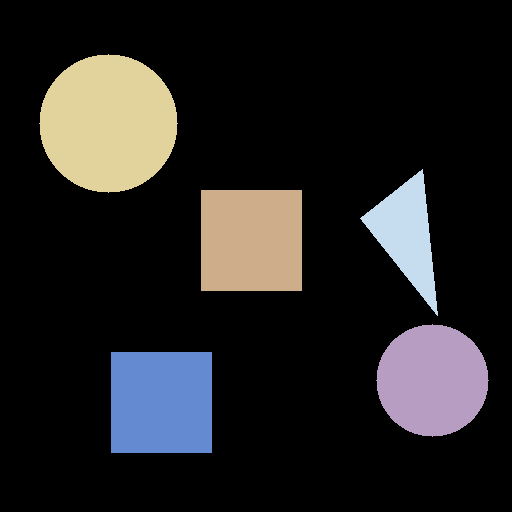circle: (39, 54, 177, 192), (376, 324, 488, 436)
square: (111, 352, 211, 452), (201, 190, 301, 290)
triangle: (360, 169, 437, 315)
